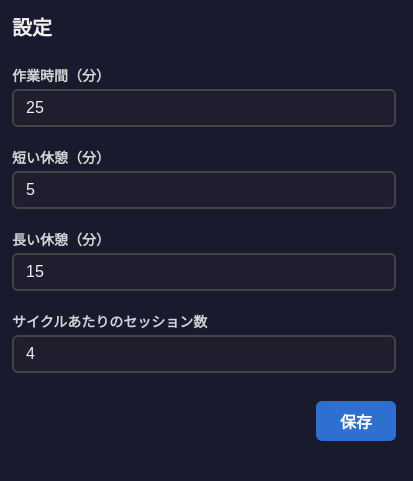
Test: SettingsForm.vue（要件 3.7） › 短い休憩に範囲外の値を入力したとき › エラーメッセージが表示され、保存ボタンが無効化される（上限超え: 31）
The image size is (413, 481).
Replace the text in the number field labelled "短い休憩（分）" with "31" at (204, 190), box top-left (12, 171), bottom-right (396, 209)
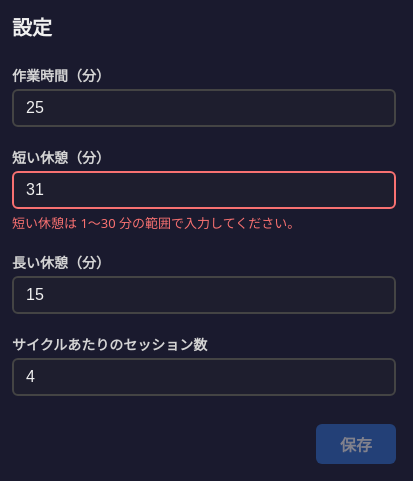
Now the message reads "短い休憩は 1〜30 分の範囲で入力してください。", box top-left (12, 214), bottom-right (300, 232)
Now the button with aria-label "設定を保存" is disabled, box top-left (316, 424), bottom-right (396, 464)
